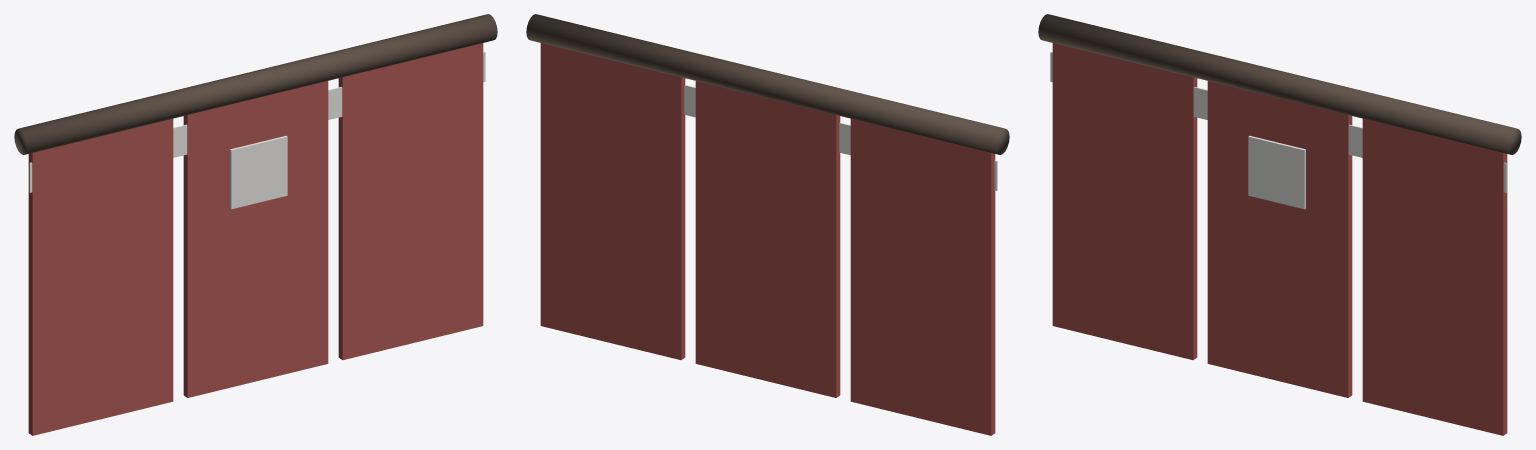
The model's file is prop_noren_aka.glb.
3 views of the same model, side by side, from view 1: azimuth 30°, elevation 25°; view 2: azimuth 150°, elevation 25°; view 3: azimuth 330°, elevation 25° (orthographic).
Visible parts, largest first — view 1: noren_aka; view 2: noren_aka; view 3: noren_aka.
Boxes of the visible parts, x1,y1,x2,y2 form: noren_aka: [14, 14, 497, 435]; noren_aka: [526, 14, 1009, 435]; noren_aka: [1038, 14, 1521, 435].
Size of the model in its own units: 2 by 1.25 by 0.1.
